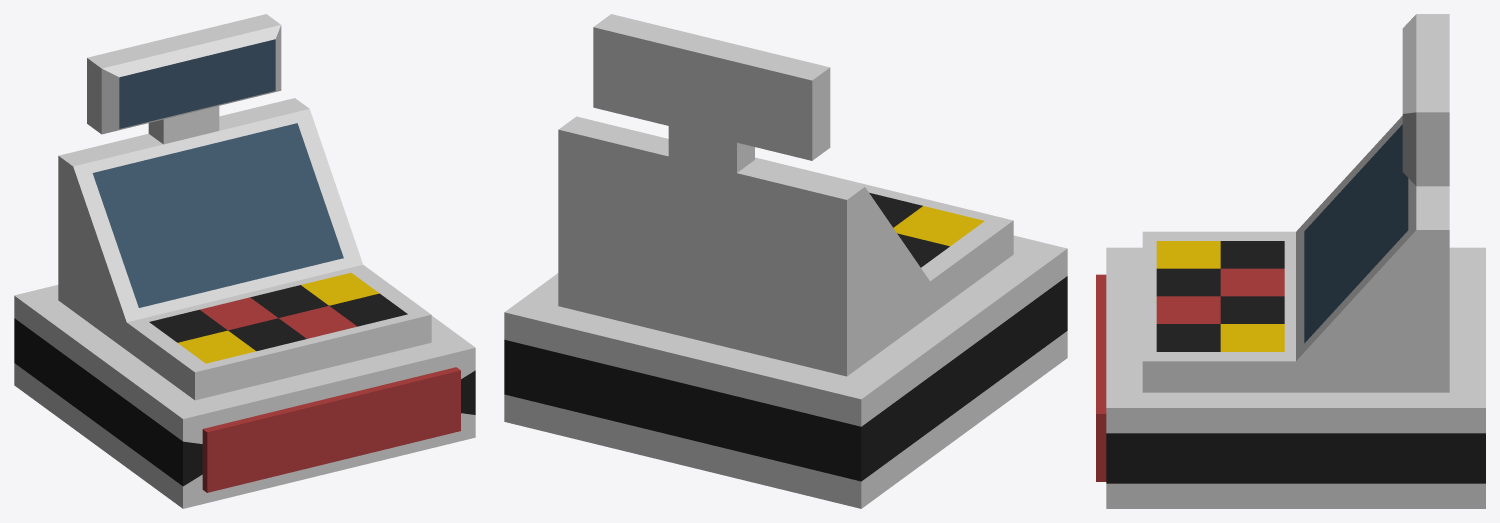
File: CashRegister.fbx
The picture shows the model from 3 angles, left to right: view 1: azimuth 30°, elevation 25°; view 2: azimuth 150°, elevation 25°; view 3: azimuth 270°, elevation 25°; orthographic projection. The views are drawn at different scales.
Parts seen in each view (by area): view 1: pCube1; view 2: pCube1; view 3: pCube1.
Part boxes in pixels (x1=…): pCube1: x1=14, y1=14, x2=475, y2=508; pCube1: x1=504, y1=14, x2=1067, y2=508; pCube1: x1=1096, y1=14, x2=1485, y2=508.
Size of the model in its own units: 6.88 by 7.31 by 7.07.
